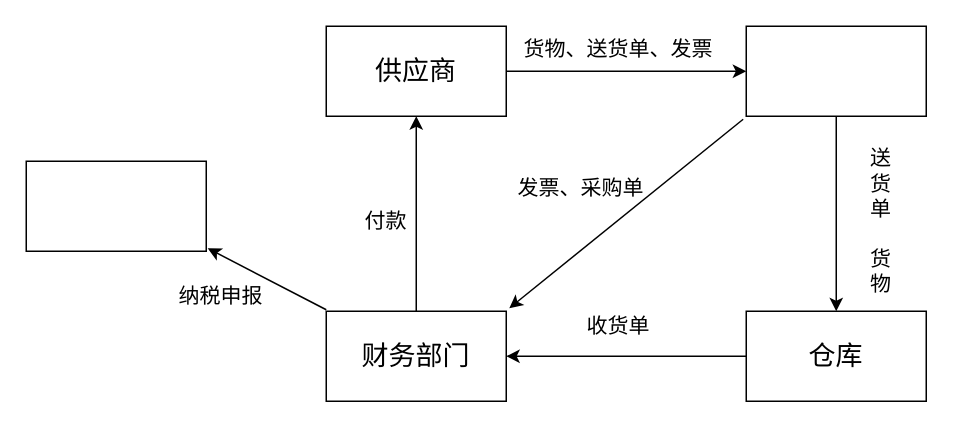
This 953x428 diagram has some shape labels left out. Each missing label, with the box of its shape:
国税部门: (25, 160, 206, 251)
采购部门: (745, 25, 926, 116)
